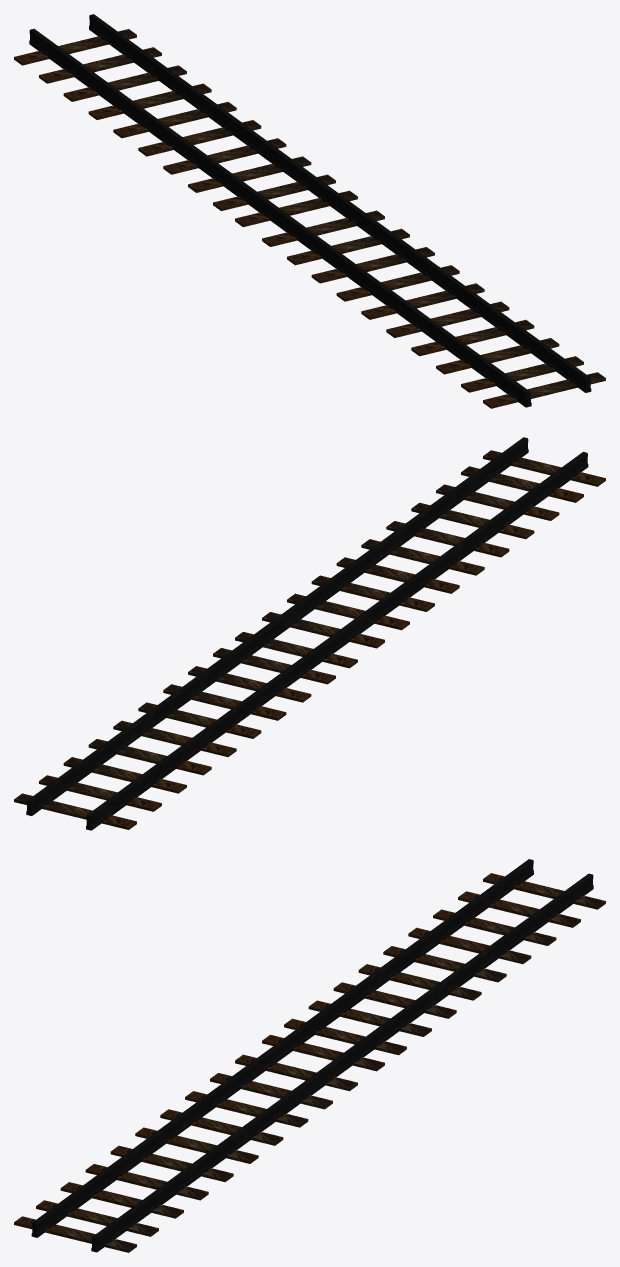
Rendered from track1.gltf.
3 renders of one model, top to bottom at view 1: azimuth 30°, elevation 25°; view 2: azimuth 150°, elevation 25°; view 3: azimuth 330°, elevation 25°, orthographic.
Parts seen in each view (by area): view 1: Track_01polySurface161_lambert1_0.004, Track_01polySurface161_lambert1_0.001; view 2: Track_01polySurface161_lambert1_0.001, Track_01polySurface161_lambert1_0.004; view 3: Track_01polySurface161_lambert1_0.004, Track_01polySurface161_lambert1_0.001.
Part boxes in pixels (x1,y1,x2,y2): Track_01polySurface161_lambert1_0.004: (262,196,605,408); Track_01polySurface161_lambert1_0.001: (14,14,357,227); Track_01polySurface161_lambert1_0.001: (14,619,357,830); Track_01polySurface161_lambert1_0.004: (262,437,605,648); Track_01polySurface161_lambert1_0.004: (14,1041,357,1252); Track_01polySurface161_lambert1_0.001: (262,859,605,1071).
Size of the model in its own units: 40 by 5.12 by 300.
1 material, 1 textured.
